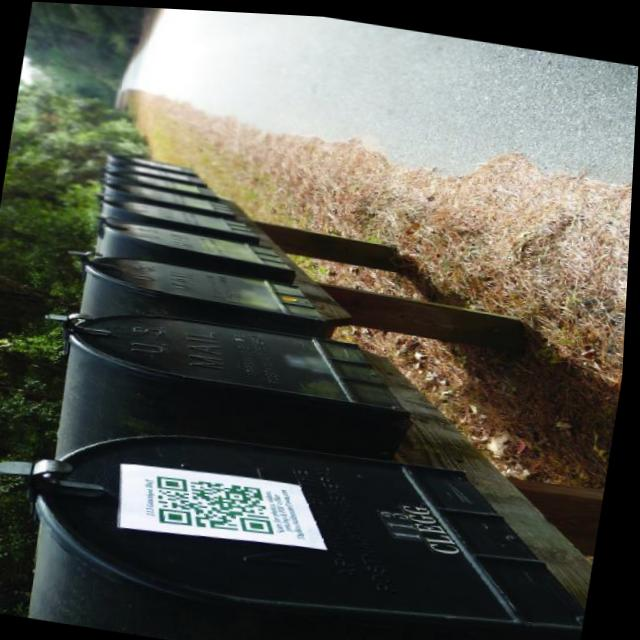qrcode: (156, 470, 287, 537)
